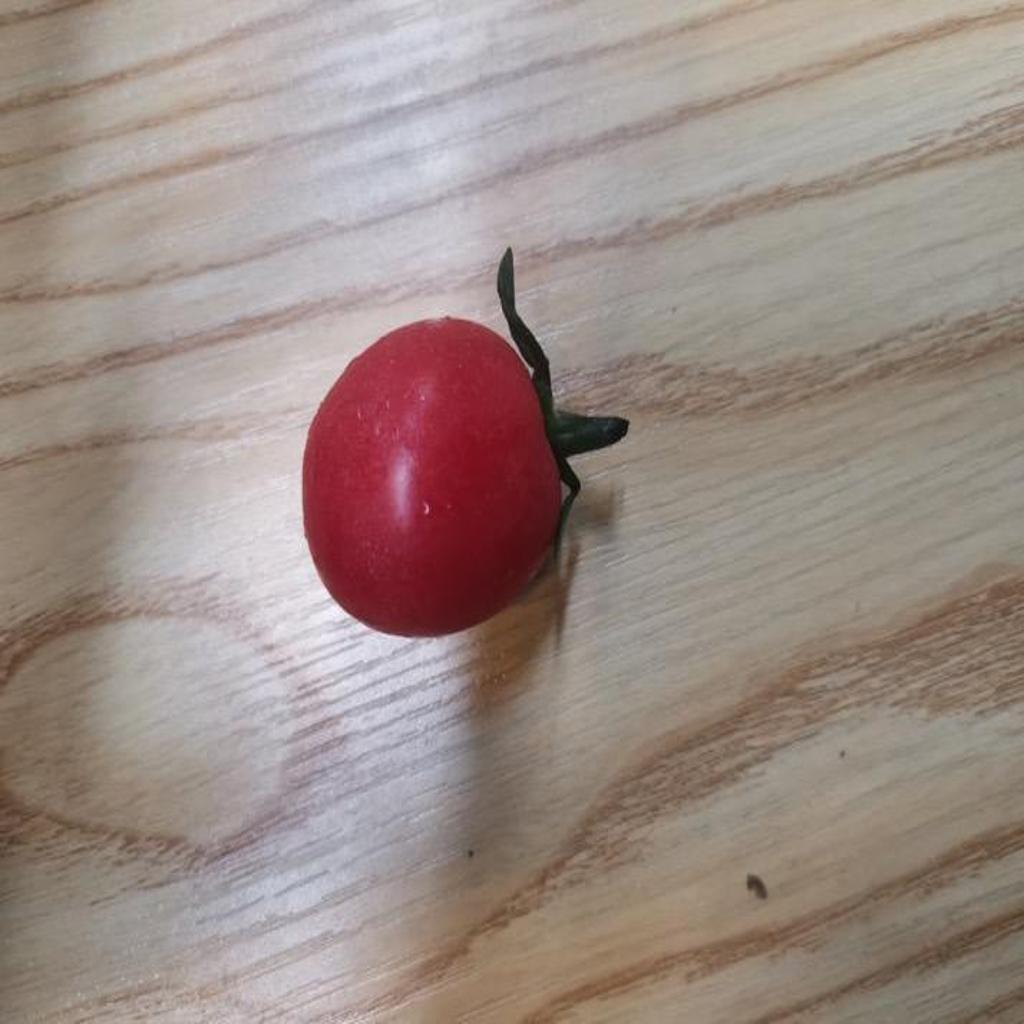tomato: (311, 307, 575, 633)
